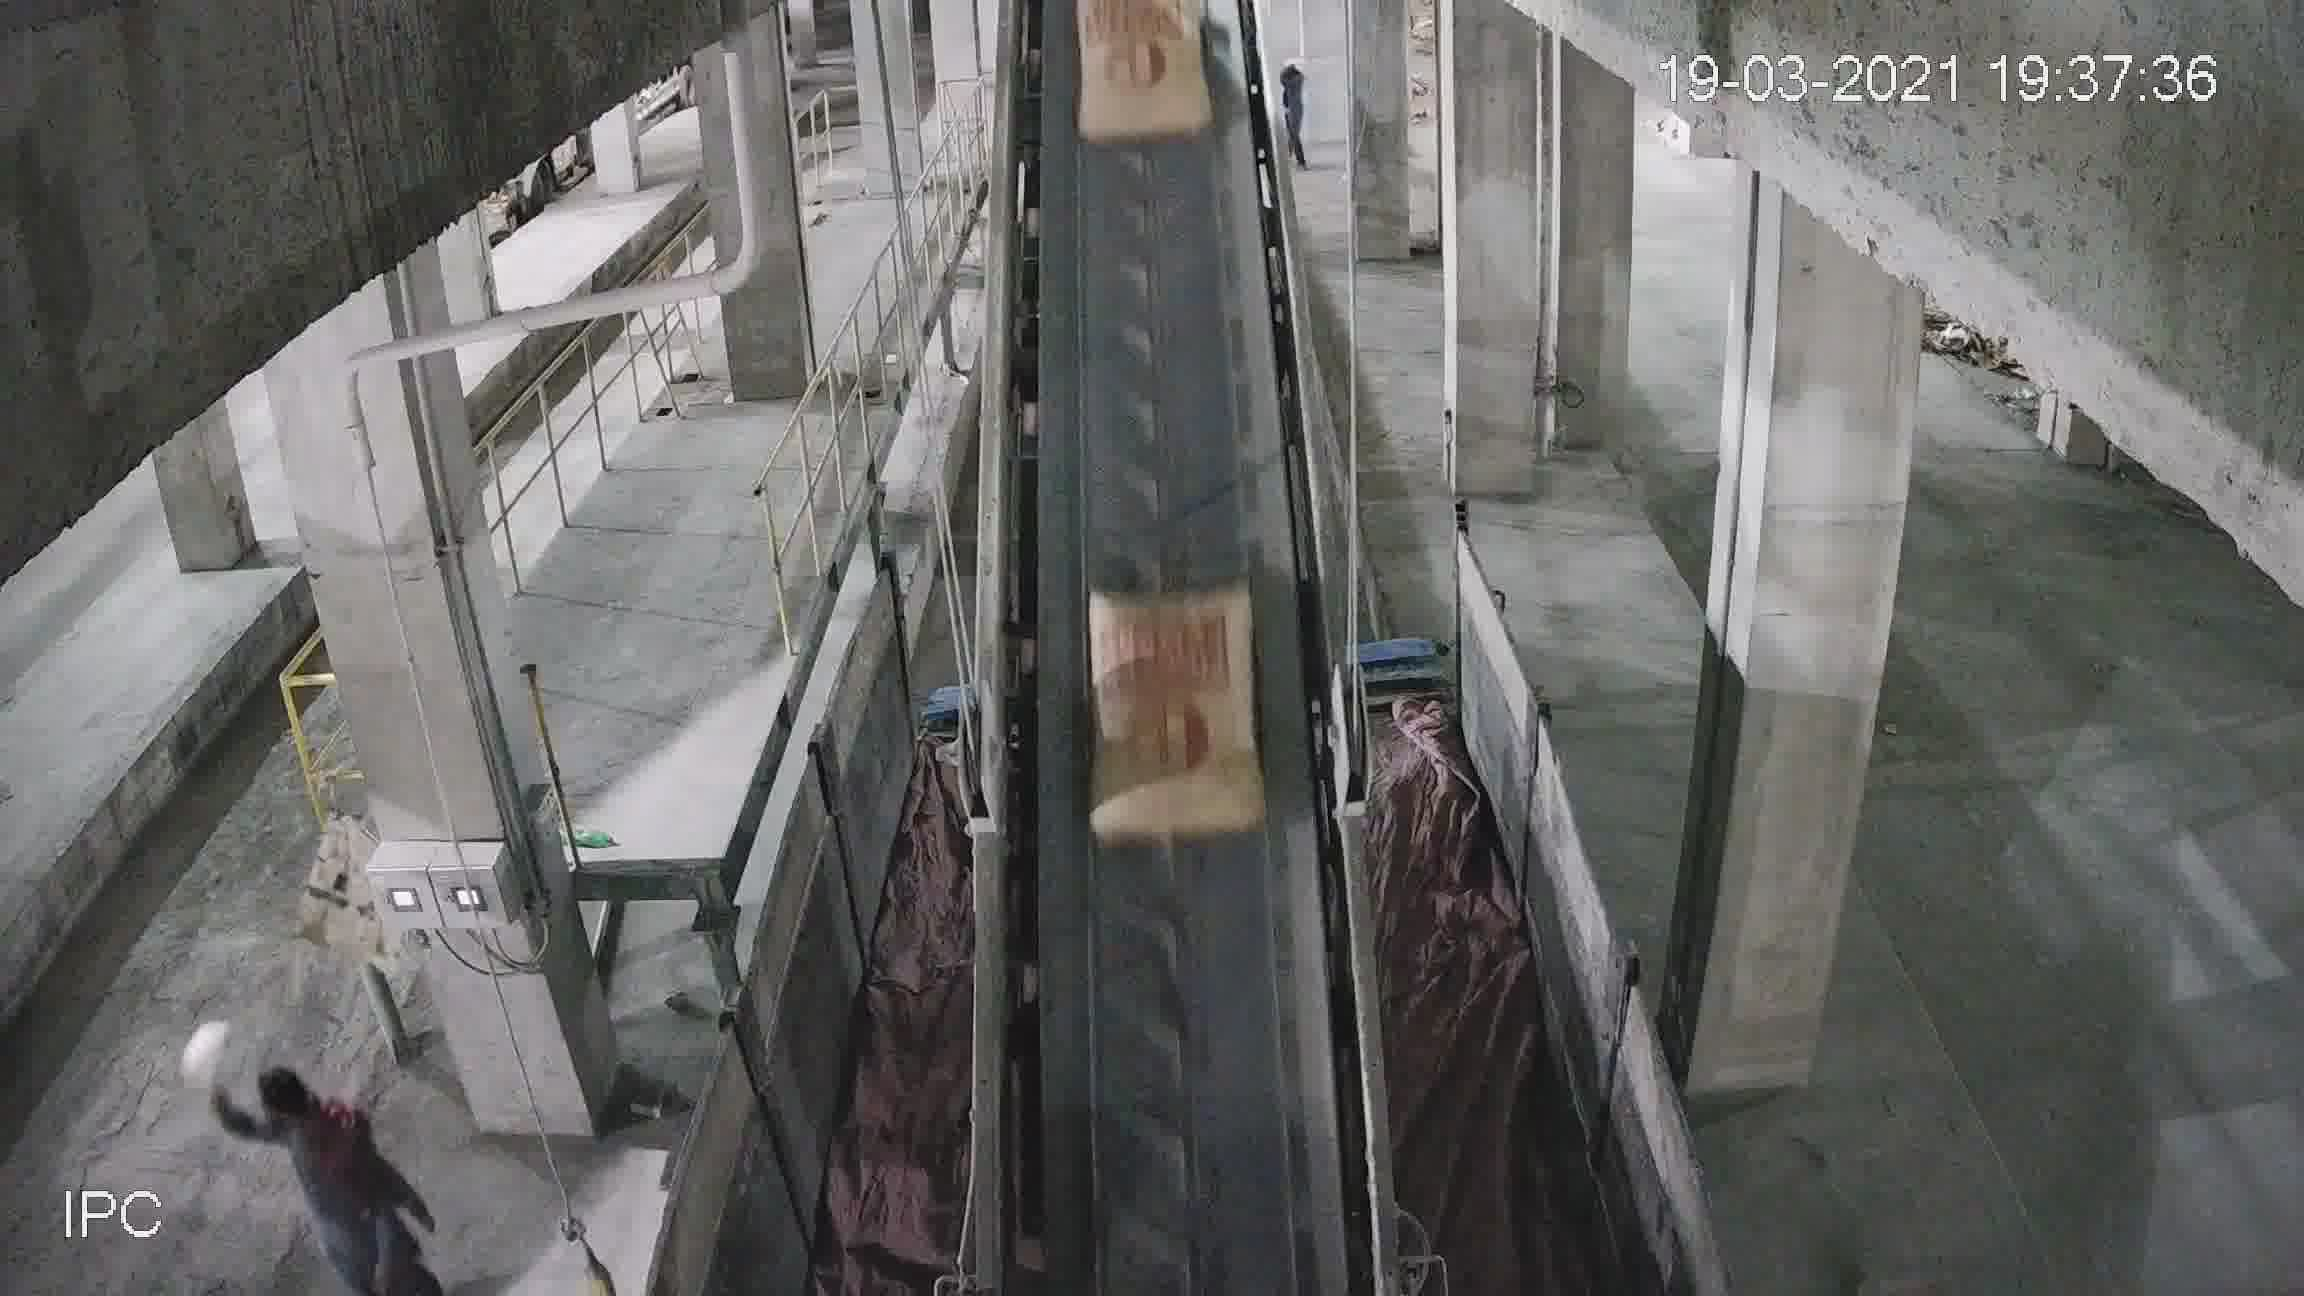bag: (1090, 595, 1263, 843), (1086, 5, 1207, 133)
belt: (995, 28, 1350, 1136)
